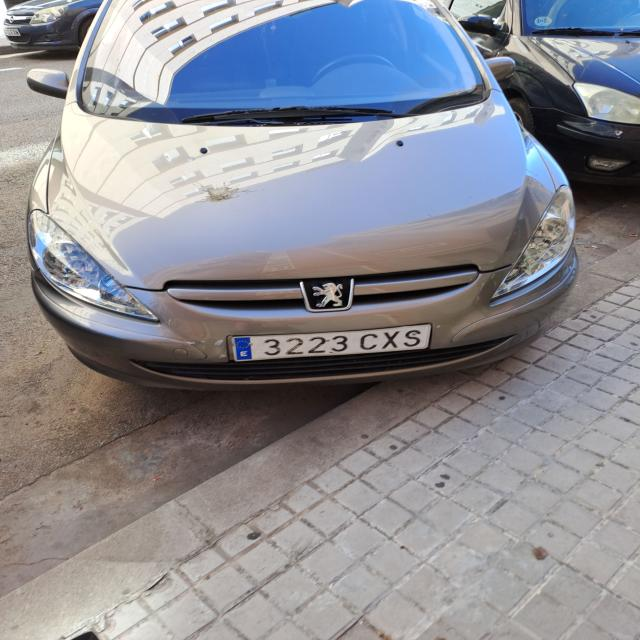license_plate-34Td: (228, 324, 431, 361)
